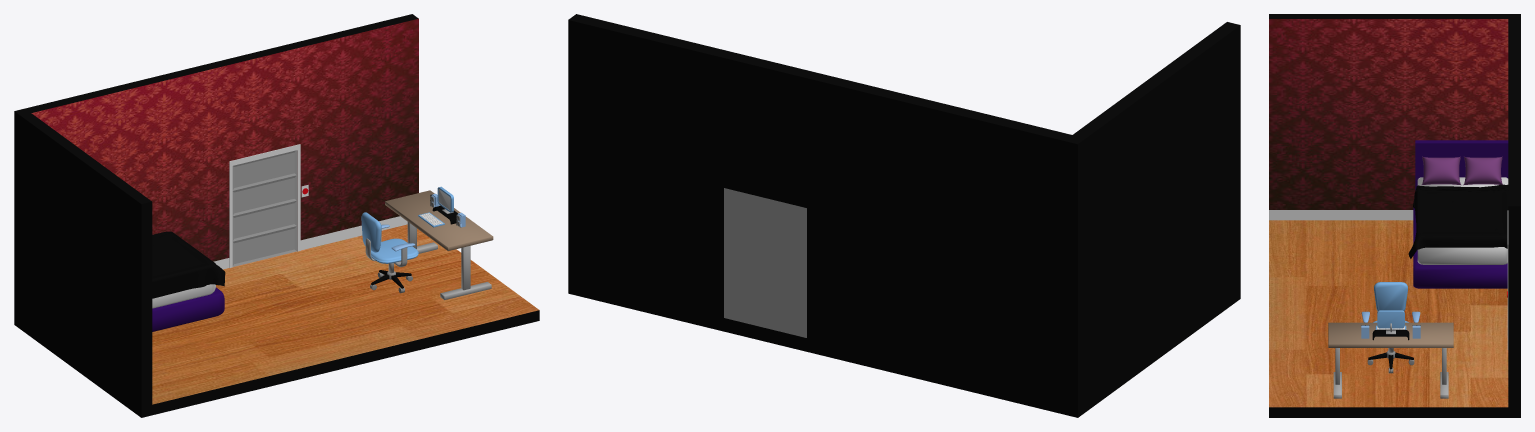
The model's file is RoomCCC.glb.
The picture shows the model from 3 angles, left to right: view 1: azimuth 30°, elevation 25°; view 2: azimuth 150°, elevation 25°; view 3: azimuth 270°, elevation 25°; orthographic projection. The views are drawn at different scales.
Parts seen in each view (by area): view 1: Room, Door, Duvet, Plane, Mattress.003, Plane.001, Mattress.002, Cube.002, Plane.005, Cube.001; view 2: Room, Door; view 3: Room, Duvet, Plane, Mattress.003, Cube.004, Mattress.002, Pillow.002, Pillow.003, Plane.005, Plane.008, Cube.001, Cube.002 (+3 smaller).
Boxes of the visible parts, x1,y1,x2,y2 form: Room: (14, 14, 539, 417); Door: (232, 150, 296, 266); Duvet: (152, 231, 225, 298); Plane: (385, 190, 493, 250); Mattress.003: (152, 287, 224, 331); Plane.001: (371, 238, 418, 263); Mattress.002: (152, 284, 215, 308); Cube.002: (407, 222, 470, 290); Plane.005: (361, 212, 381, 252); Cube.001: (416, 242, 491, 300); Room: (568, 14, 1240, 417); Door: (724, 188, 806, 337); Room: (1269, 14, 1520, 417); Duvet: (1408, 184, 1508, 258); Plane: (1328, 322, 1453, 347); Mattress.003: (1413, 207, 1507, 288); Cube.004: (1415, 140, 1508, 190); Mattress.002: (1417, 177, 1508, 264); Pillow.002: (1421, 156, 1460, 185); Pillow.003: (1463, 156, 1502, 185); Plane.005: (1374, 282, 1407, 311); Plane.008: (1377, 310, 1404, 328); Cube.001: (1333, 372, 1448, 398); Cube.002: (1335, 348, 1446, 384).
Bounding box in the file's own units: 3.73 × 1.91 × 2.06.
20 materials, 2 textured.
